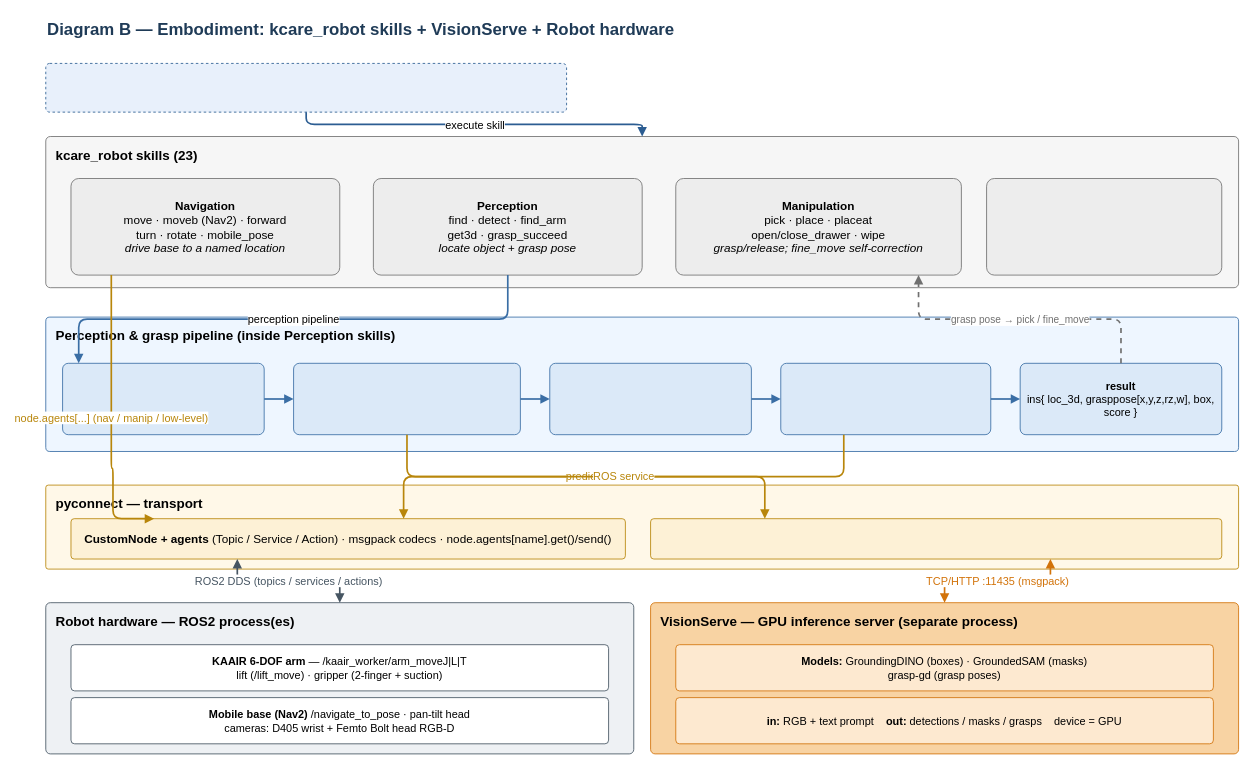
Image size: 1253x769. Some labels were removed from this diagram. The shapes that lost their labels are listed below. From the top down, each one's centre as x and y in pixels, then its label:
At pixel 306 87: "← from Diagram A — robot_agent brain SkillRegistry.execute(name, params, node)".
At pixel 1104 226: "Low-level arm (movej/movel/movet) lift · head · grip joint/linear/tool moves".
At pixel 163 398: "fetch_camera_data head / wrist RGB-D frame".
At pixel 406 398: "VisionServe.predict grounding-dino / grounded-sam / grasp-gd".
At pixel 650 398: "select_target_object / select_target_grasp".
At pixel 885 398: "get3d /create_object_marker → 3D in base frame".
At pixel 936 538: "VisionServe client · _vs_client().predict(model, rgb, prompt) · TCP/HTTP :11435".
